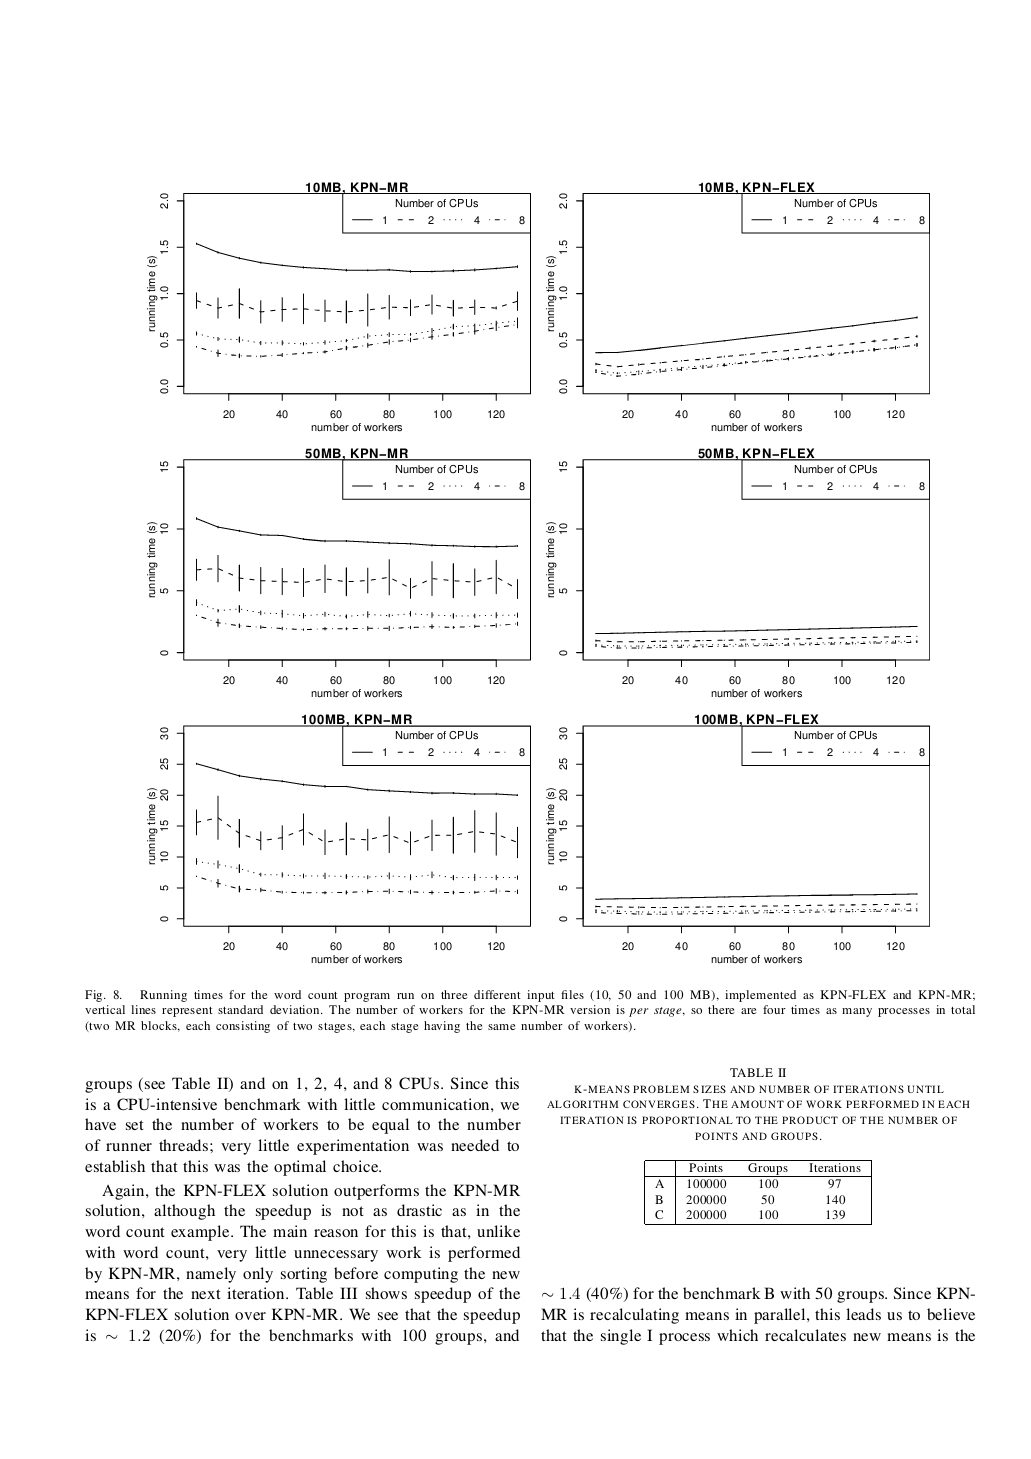Table: (644, 1158, 871, 1225)
figure: (546, 182, 929, 431), (546, 448, 929, 697), (546, 714, 929, 963), (147, 182, 530, 431), (147, 448, 530, 697), (147, 714, 530, 963)
